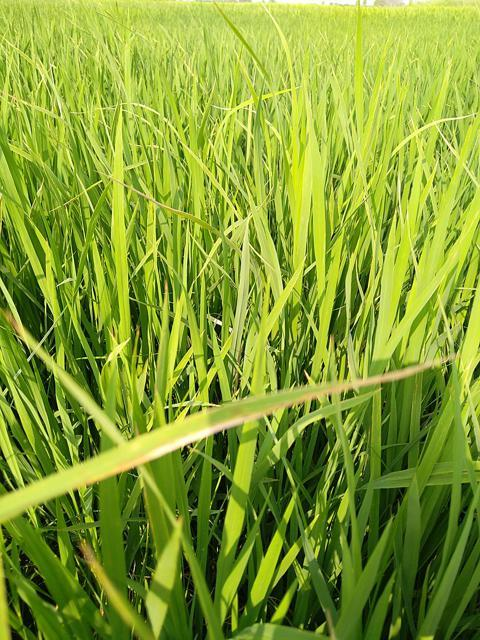Leaf Blight: (73, 362, 433, 491)
